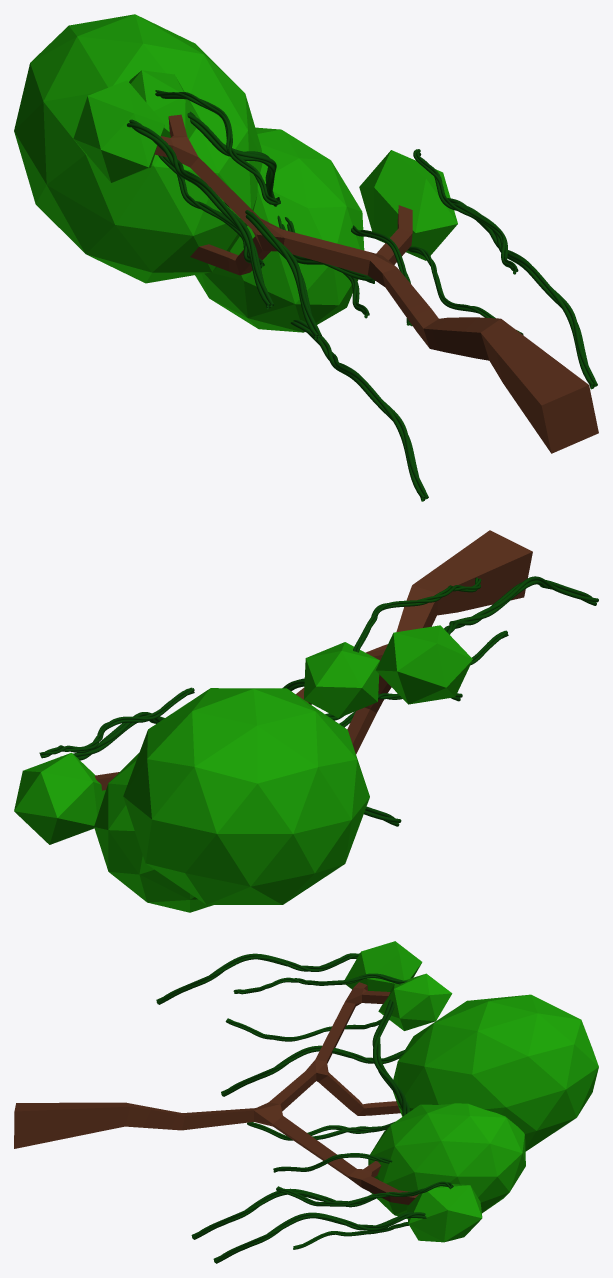
Rendered from Tree3.3.fbx.
3 views of the same model, one above another, from view 1: azimuth 30°, elevation 25°; view 2: azimuth 150°, elevation 25°; view 3: azimuth 270°, elevation 25° (orthographic). The views are drawn at different scales.
Visible parts, largest first — view 1: Tree3; view 2: Tree3; view 3: Tree3.
Boxes of the visible parts, left/top/right/bottom form: Tree3: left=14, top=14, right=598, bottom=501; Tree3: left=14, top=530, right=598, bottom=912; Tree3: left=14, top=941, right=598, bottom=1263.
Bounding box in the file's own units: 2435 × 1972 × 4395.
